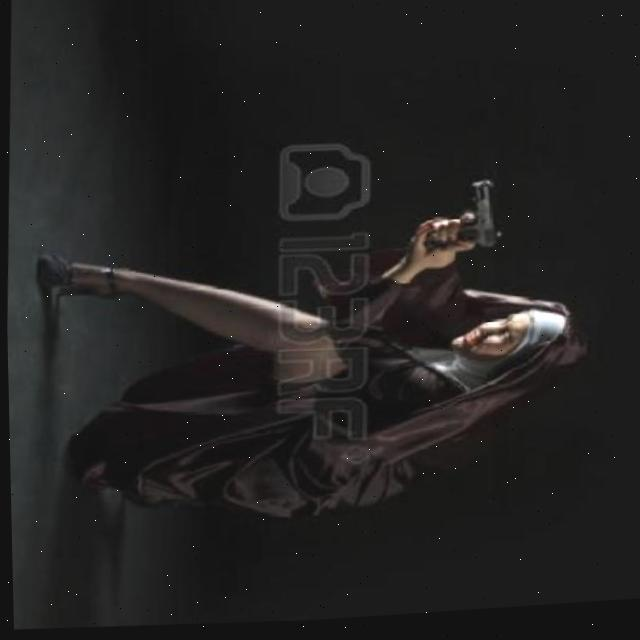gun: (418, 182, 507, 260)
